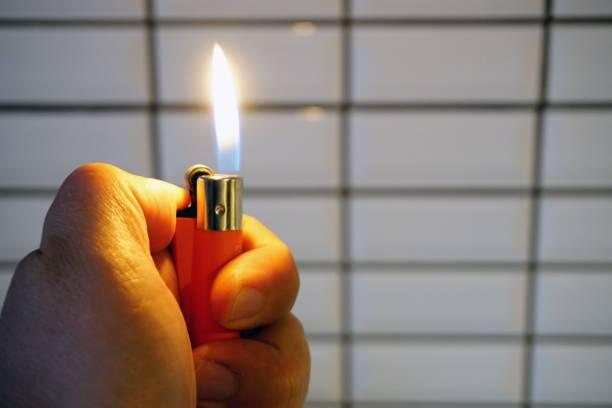Fire: (207, 39, 245, 175)
